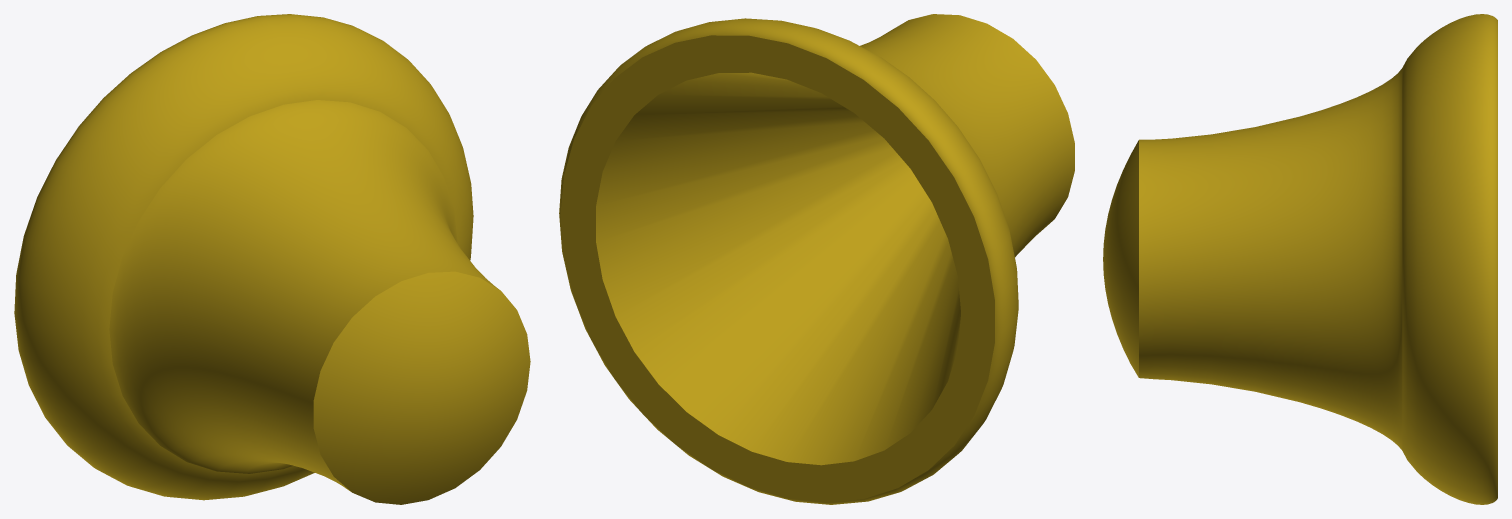
File: Bell.obj
3 views of the same model, side by side, from view 1: azimuth 30°, elevation 25°; view 2: azimuth 150°, elevation 25°; view 3: azimuth 270°, elevation 25° (orthographic). The views are drawn at different scales.
Parts seen in each view (by area): view 1: Body1; view 2: Body1; view 3: Body1.
Boxes of the visible parts, x1=… form: Body1: x1=14, y1=14, x2=530, y2=504; Body1: x1=559, y1=14, x2=1074, y2=504; Body1: x1=1103, y1=14, x2=1497, y2=504.
Bounding box in the file's own units: 10.26 × 10.25 × 8.25.
